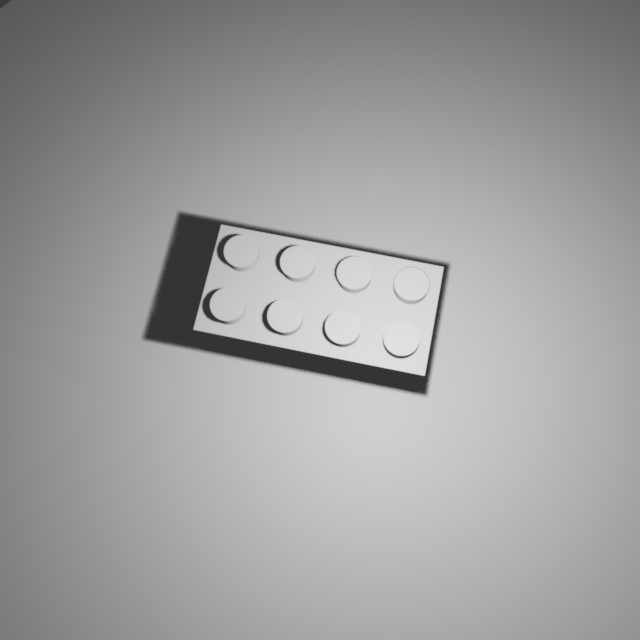lego_2x4: (192, 220, 445, 393)
